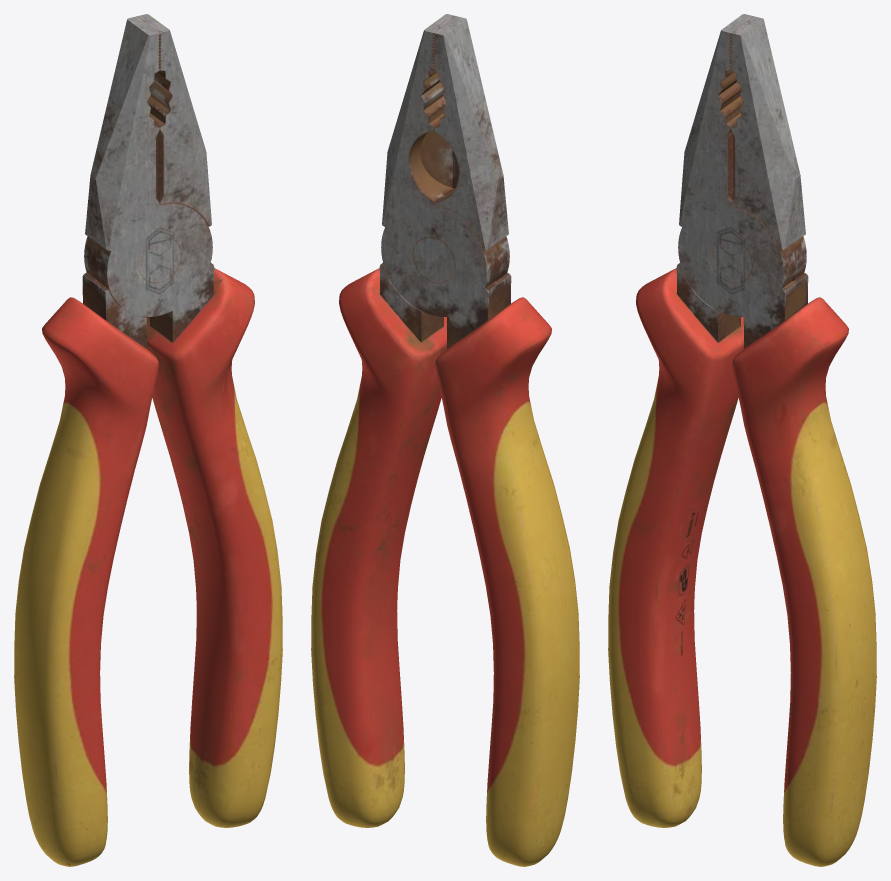
Rendered from pliers.glb.
3 renders of one model, left to right at view 1: azimuth 30°, elevation 25°; view 2: azimuth 150°, elevation 25°; view 3: azimuth 330°, elevation 25°, orthographic.
Visible parts, largest first — view 1: pliers_b; view 2: pliers_b; view 3: pliers_b.
Boxes of the visible parts, x1,y1,x2,y2 form: pliers_b: [14, 14, 282, 866]; pliers_b: [311, 14, 579, 866]; pliers_b: [608, 14, 876, 866].
Bounding box in the file's own units: 0.0553 × 0.1798 × 0.018.
Materials: 1 (1 with a texture image).
